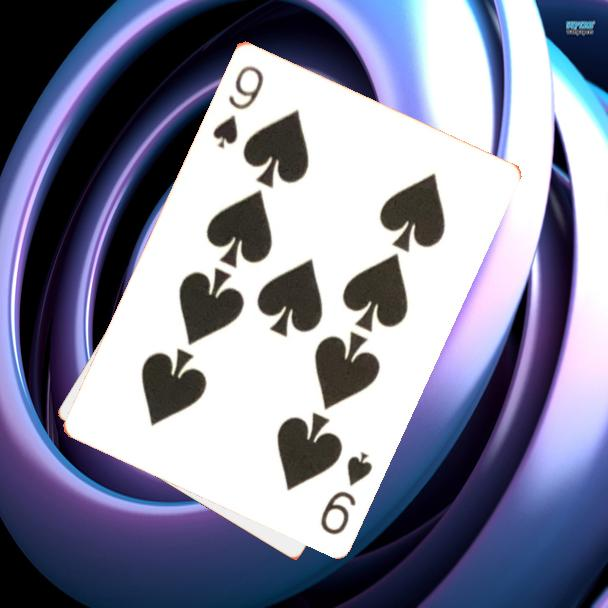s09: (316, 447, 376, 537), (208, 61, 267, 151)
